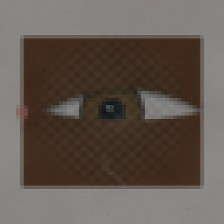foreign_body_visible: (65, 119, 114, 158)
